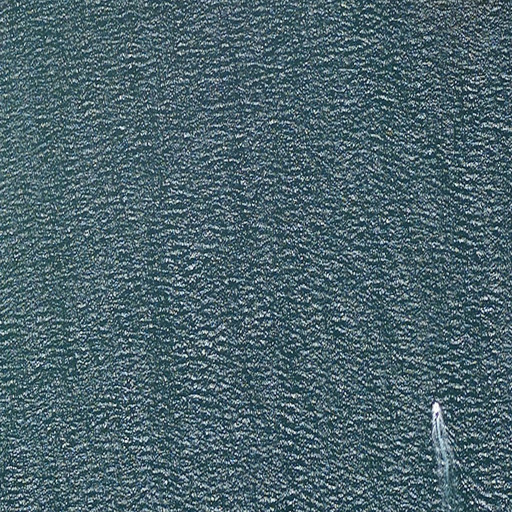ship: (429, 400, 442, 414)
